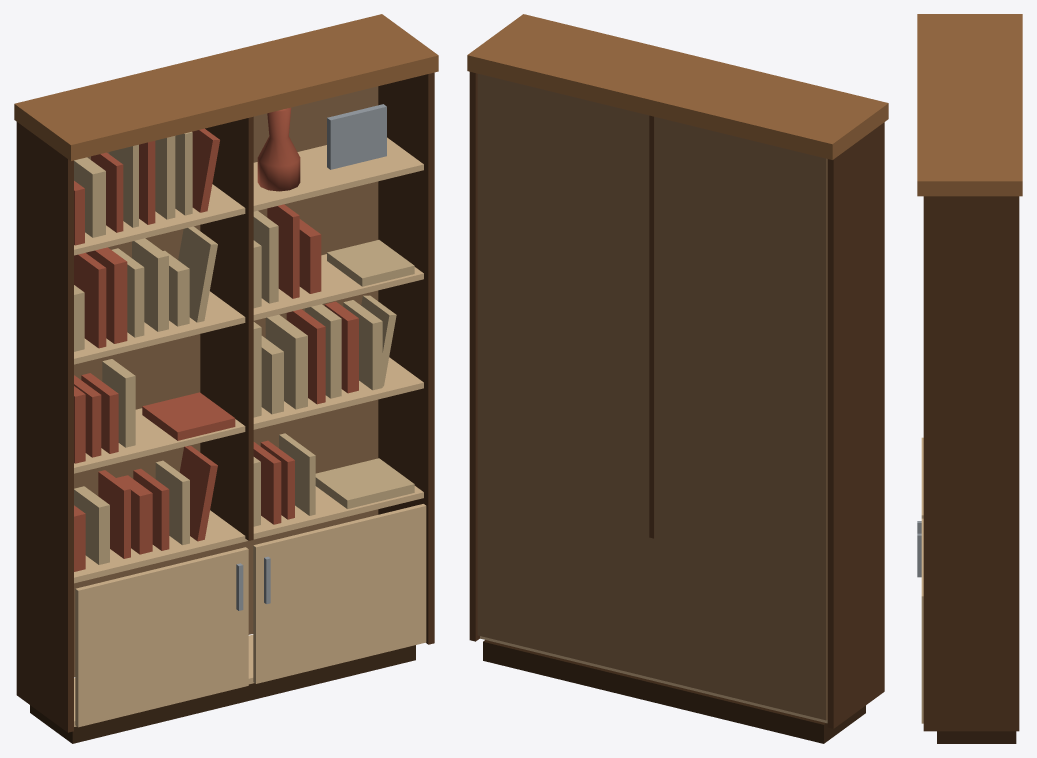
Rendered from bookcase-lite.glb.
3 renders of one model, left to right at view 1: azimuth 30°, elevation 25°; view 2: azimuth 150°, elevation 25°; view 3: azimuth 270°, elevation 25°, orthographic. The views are drawn at different scales.
Parts seen in each view (by area): view 1: material-0-body, material-5-door, material-7-book, material-8-accent, material-4-top, material-2-shelf, material-3-interior, material-1-base, material-6-metal; view 2: material-3-interior, material-0-body, material-4-top, material-1-base, material-2-shelf; view 3: material-0-body, material-4-top, material-1-base, material-5-door, material-6-metal.
Boxes of the visible parts, x1=… form: material-0-body: x1=16, y1=72, x2=434, y2=732; material-5-door: x1=75, y1=504, x2=426, y2=727; material-7-book: x1=74, y1=131, x2=414, y2=564; material-8-accent: x1=74, y1=107, x2=358, y2=571; material-4-top: x1=14, y1=14, x2=438, y2=160; material-2-shelf: x1=74, y1=137, x2=423, y2=726; material-3-interior: x1=74, y1=86, x2=378, y2=677; material-1-base: x1=30, y1=645, x2=415, y2=743; material-6-metal: x1=236, y1=104, x2=386, y2=610; material-3-interior: x1=477, y1=74, x2=827, y2=720; material-0-body: x1=469, y1=72, x2=884, y2=728; material-4-top: x1=467, y1=14, x2=888, y2=159; material-1-base: x1=483, y1=640, x2=865, y2=743; material-2-shelf: x1=480, y1=636, x2=827, y2=723; material-0-body: x1=923, y1=196, x2=1019, y2=731; material-4-top: x1=917, y1=14, x2=1022, y2=196; material-1-base: x1=937, y1=731, x2=1016, y2=743; material-5-door: x1=921, y1=437, x2=923, y2=723; material-6-metal: x1=917, y1=521, x2=921, y2=577.
Bounding box in the file's own units: 1.2 × 1.9 × 0.32.
